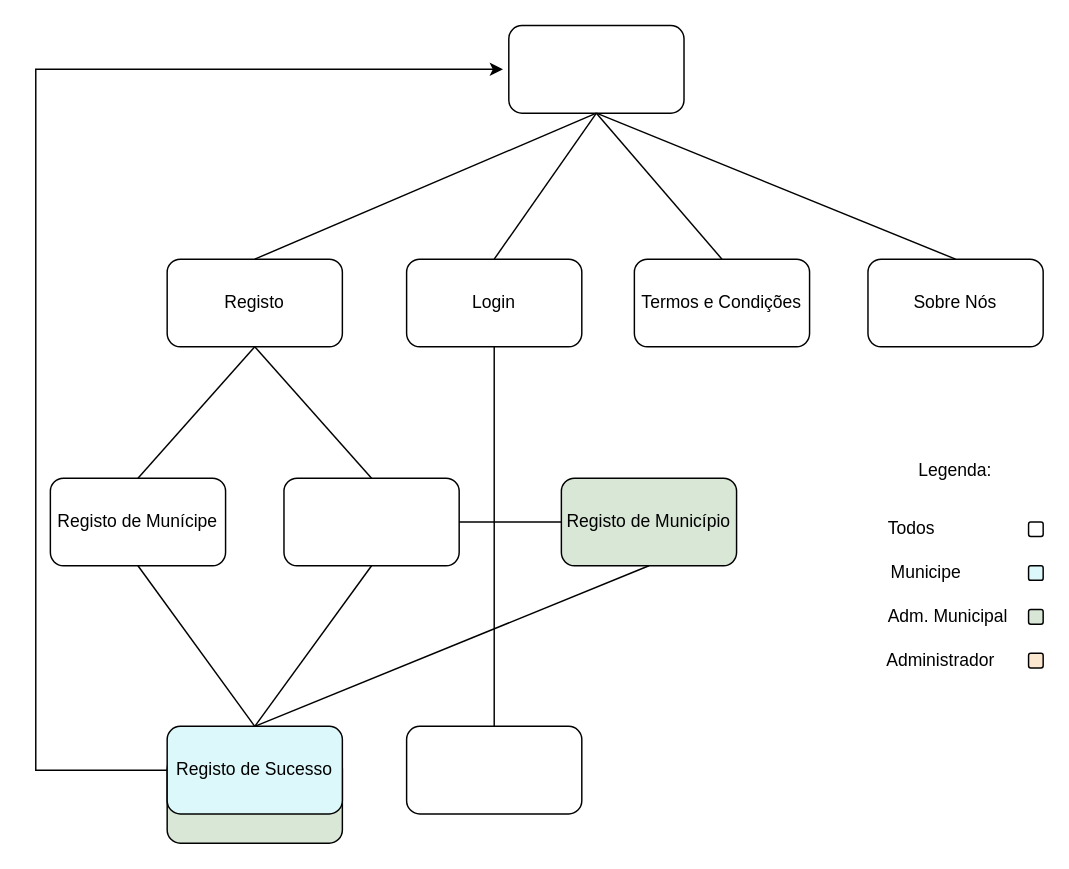
The diagram is 1069 pixels wide and 869 high, and some of its shapes have lost their labels. Here are the shapes that lost their labels. From the top down, the centre of each, then its label:
point 595,68: Página Inicial
point 371,521: Registo de Administrador Municipal
point 493,769: Home
